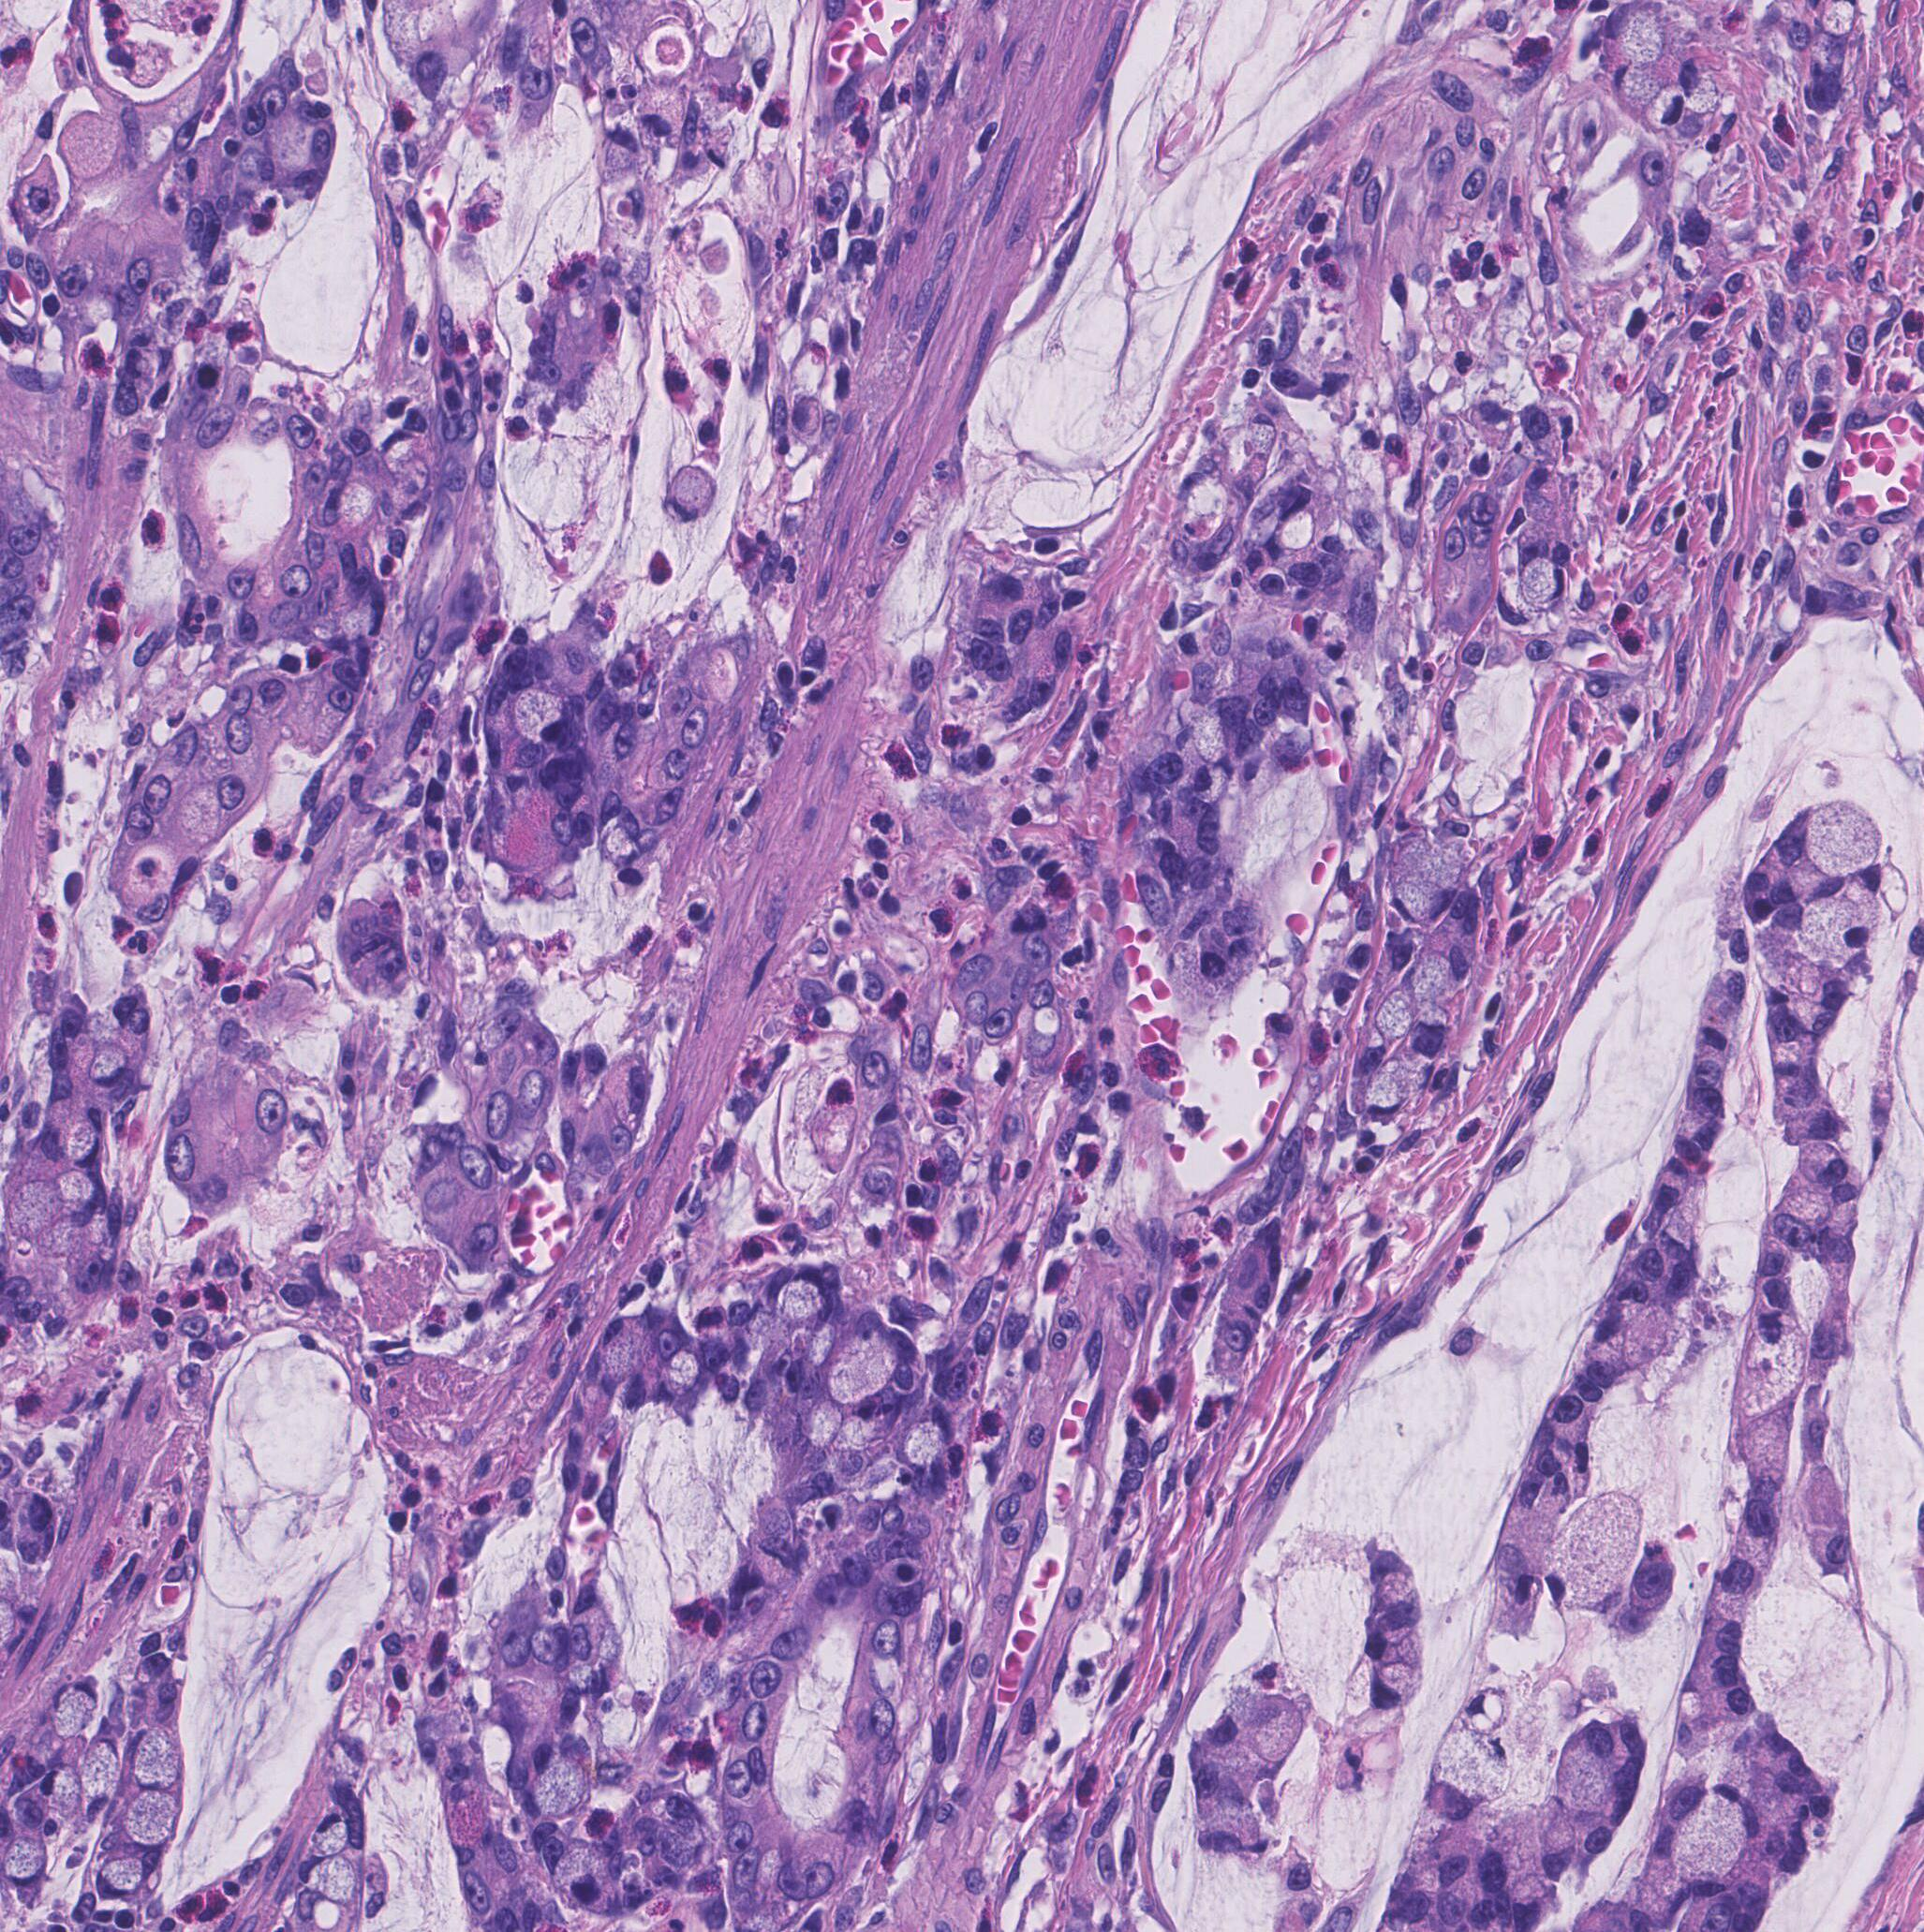ring_cell_cancer: (1545, 1497, 1639, 1610), (1667, 1786, 1748, 1888), (825, 1323, 913, 1407), (1799, 1469, 1855, 1574), (1565, 1721, 1630, 1810), (1390, 845, 1461, 923), (1603, 4, 1670, 67), (520, 1763, 594, 1819), (810, 1078, 855, 1171), (1478, 1828, 1533, 1891), (129, 1791, 183, 1849), (78, 1742, 118, 1816), (1535, 1814, 1580, 1879), (1415, 948, 1469, 1000), (48, 1684, 99, 1737), (127, 1735, 180, 1786), (18, 1495, 56, 1562), (909, 1411, 953, 1469), (1862, 870, 1912, 919), (641, 83, 684, 137), (668, 470, 714, 520), (1513, 564, 1565, 608), (601, 129, 641, 183), (53, 1173, 99, 1219), (1801, 1147, 1848, 1191), (69, 1115, 107, 1168), (1367, 1071, 1411, 1117), (37, 1768, 76, 1818), (5, 1839, 46, 1884), (1528, 472, 1568, 518), (99, 1856, 146, 1895), (307, 1812, 345, 1855), (92, 1044, 129, 1087), (793, 400, 825, 439), (1195, 768, 1226, 800)
